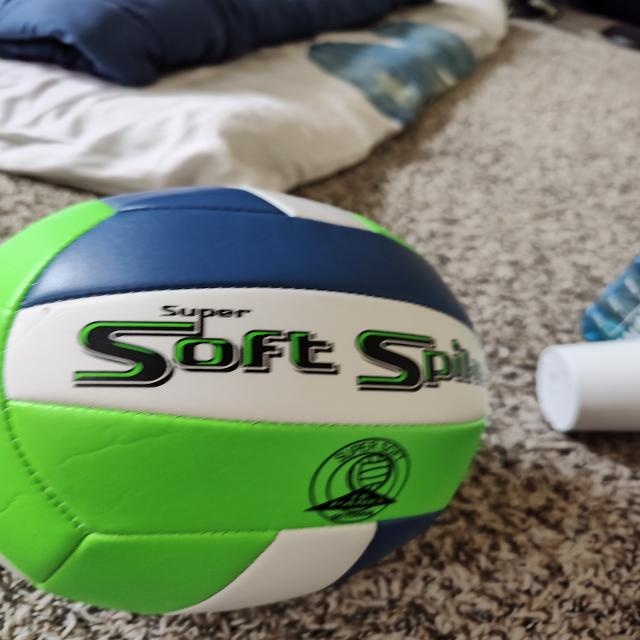ball: (0, 210, 448, 612)
